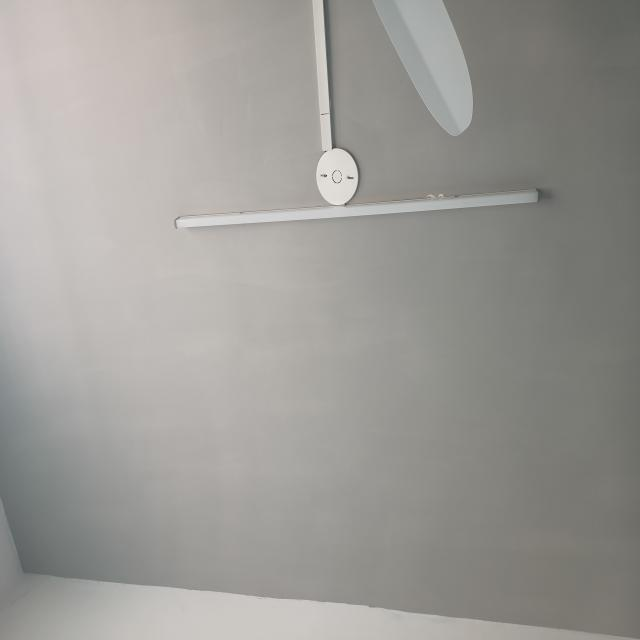light_off: (163, 172, 556, 258)
